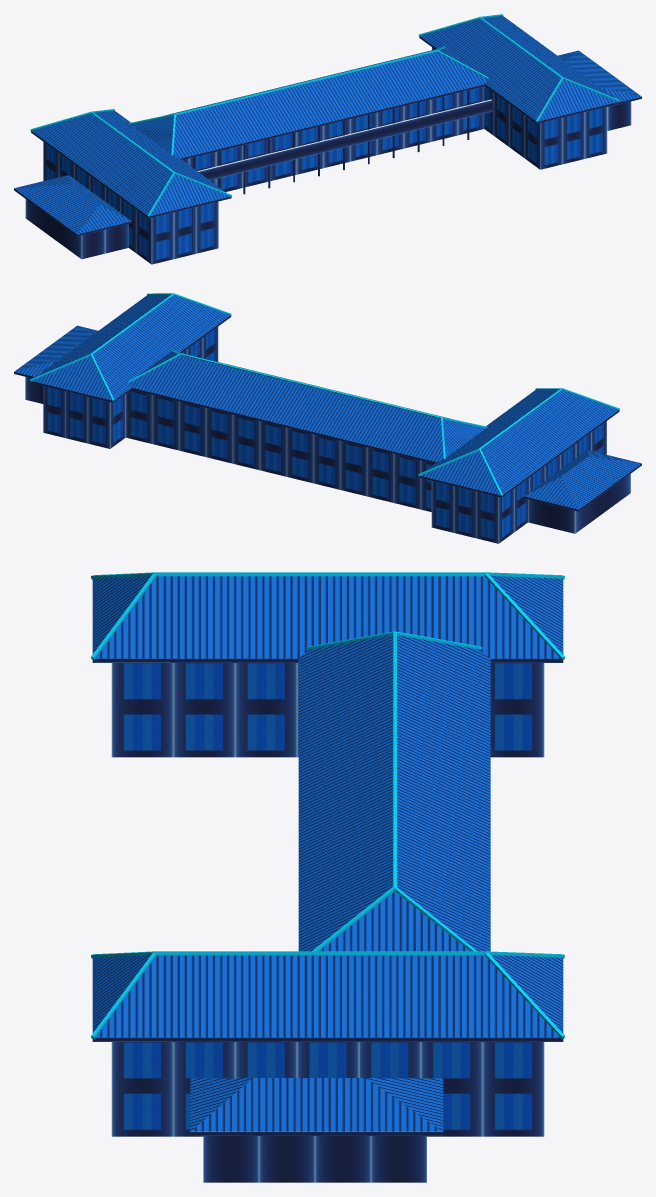
The model's file is bwg.gltf.
3 renders of one model, top to bottom at view 1: azimuth 30°, elevation 25°; view 2: azimuth 150°, elevation 25°; view 3: azimuth 270°, elevation 25°, orthographic. The views are drawn at different scales.
Parts seen in each view (by area): view 1: Box002; view 2: Box002; view 3: Box002.
Boxes of the visible parts, bbox=[...] form: Box002: bbox=[14, 14, 641, 264]; Box002: bbox=[14, 293, 641, 543]; Box002: bbox=[91, 572, 564, 1182].
Bounding box in the file's own units: 69.36 × 8.95 × 25.22.
6 materials, 6 textured.
